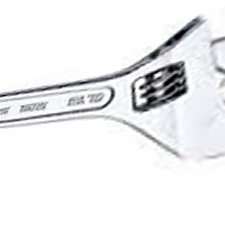wrench: (2, 20, 225, 180)
